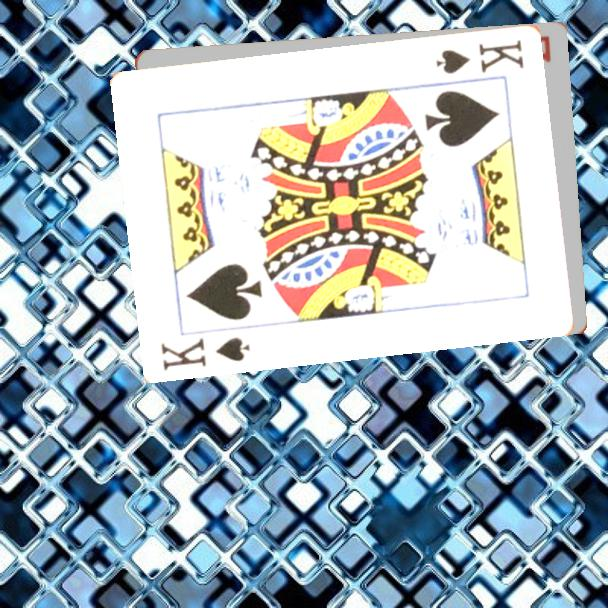s13: (432, 36, 527, 76), (158, 333, 253, 373)
